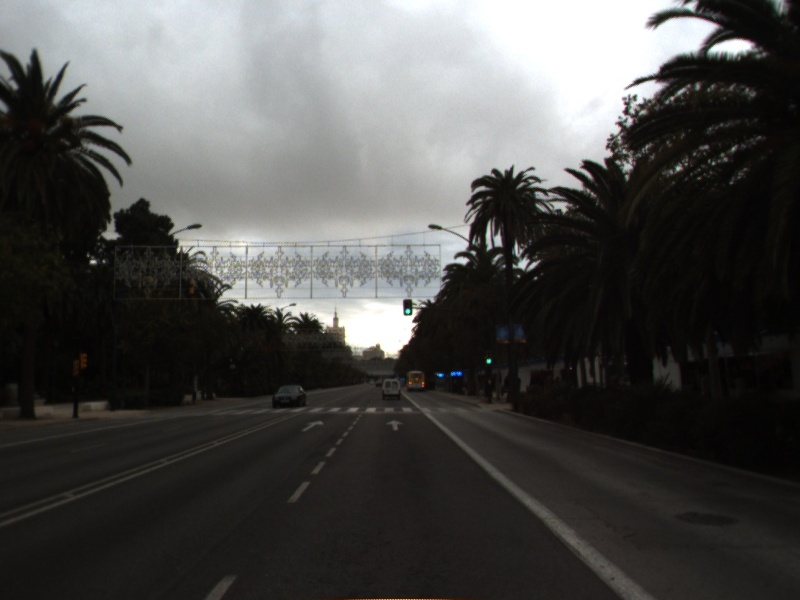STRAIGHT: (299, 418, 326, 433), (384, 418, 406, 432)
